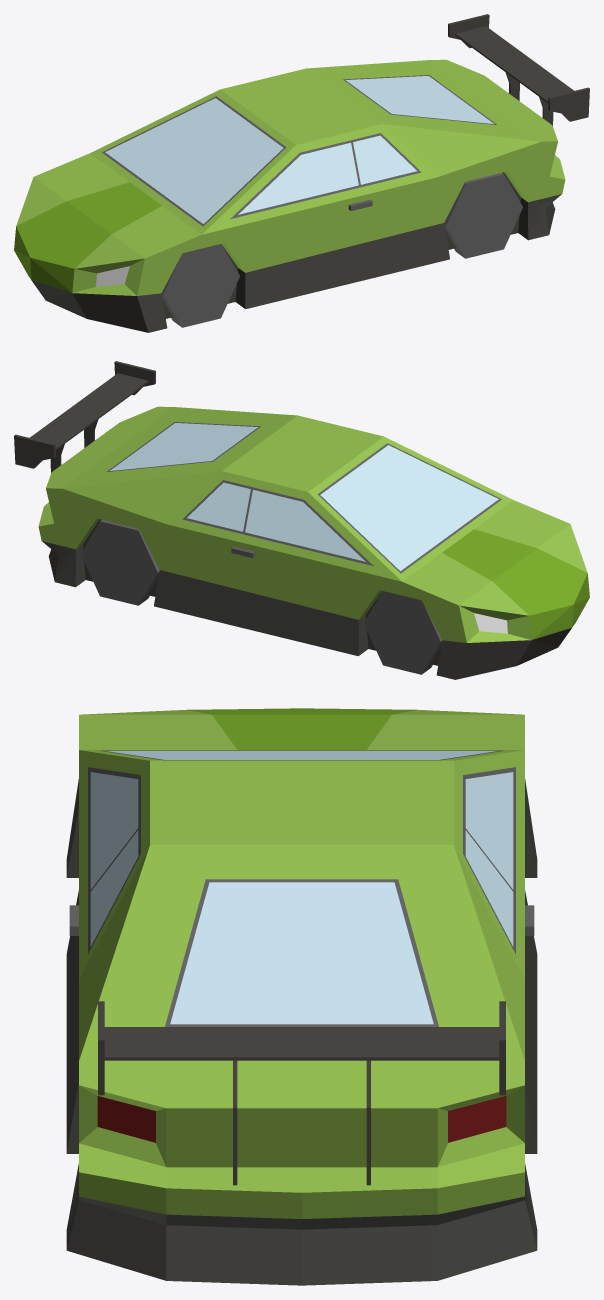
File: Car_2_1.fbx
The picture shows the model from 3 angles, top to bottom: view 1: azimuth 30°, elevation 25°; view 2: azimuth 150°, elevation 25°; view 3: azimuth 270°, elevation 25°; orthographic projection. The views are drawn at different scales.
Visible parts, largest first — view 1: Car_2_1; view 2: Car_2_1; view 3: Car_2_1.
Part boxes in pixels (x1=…): Car_2_1: x1=14, y1=14, x2=589, y2=332; Car_2_1: x1=14, y1=361, x2=589, y2=679; Car_2_1: x1=66, y1=708, x2=537, y2=1285.
Bounding box in the file's own units: 7.41 × 1.94 × 2.97.
Materials: 1 (1 with a texture image).
